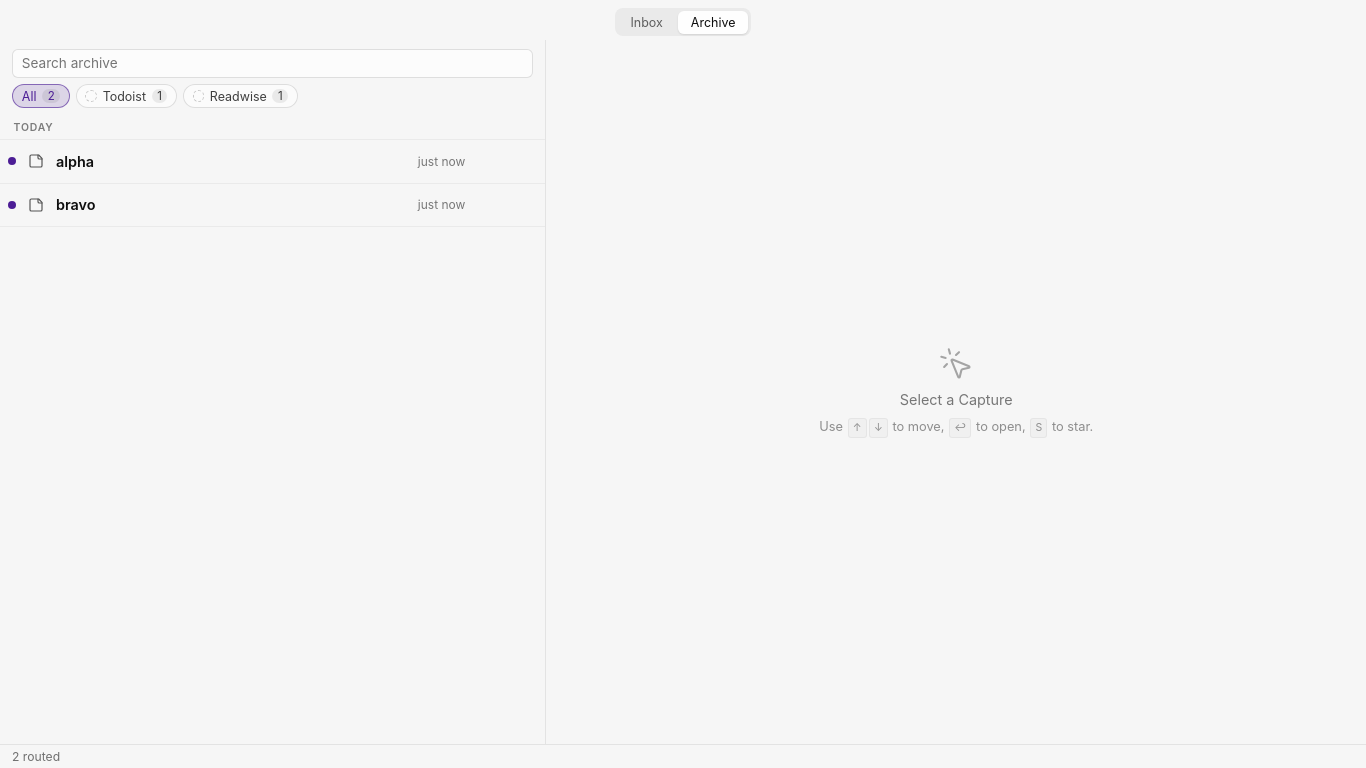
Test: archive page › filters the visible list when a destination chip is clicked
Check: the number of options is 2, box [0, 140, 545, 184]; [0, 184, 545, 227]
Click the button with test id "filter-chip" showing "Todoist 1": click(126, 96) [76, 84, 177, 108]
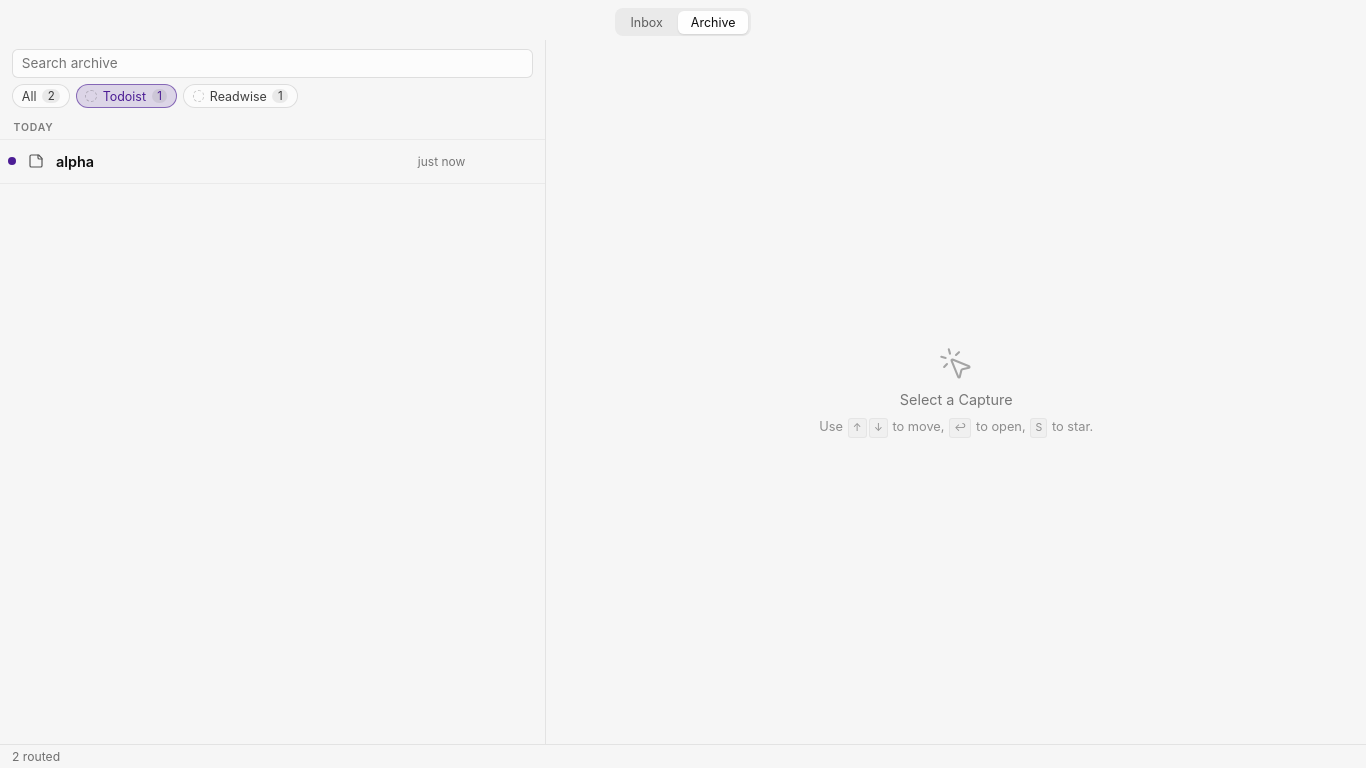
Check: the option shows "alpha", box [0, 140, 545, 184]
Check: the number of options is 1, box [0, 140, 545, 184]
